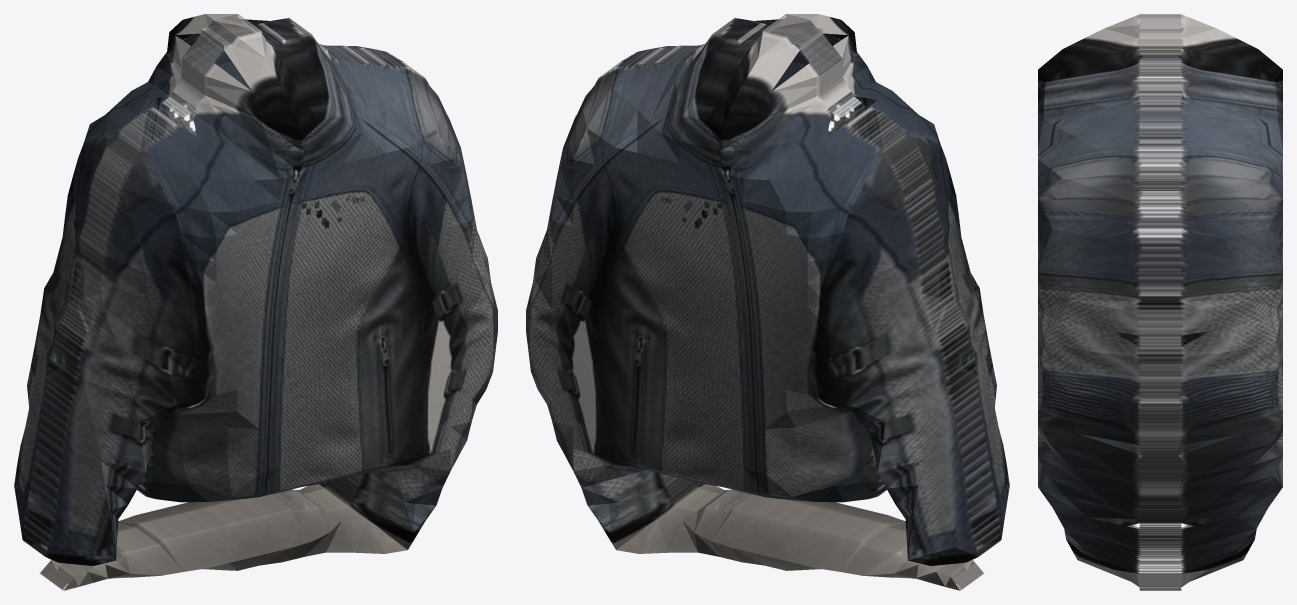
The model's file is dainese-nomad-leather-jacket-003.glb.
3 renders of one model, left to right at view 1: azimuth 30°, elevation 25°; view 2: azimuth 150°, elevation 25°; view 3: azimuth 270°, elevation 25°, orthographic. The views are drawn at different scales.
Visible parts, largest first — view 1: world; view 2: world; view 3: world.
Part boxes in pixels (x1=…): world: x1=14, y1=14, x2=497, y2=590; world: x1=526, y1=14, x2=1009, y2=590; world: x1=1038, y1=14, x2=1282, y2=590.
Bounding box in the file's own units: 0.8447 × 1 × 0.44.
Materials: 1 (1 with a texture image).
